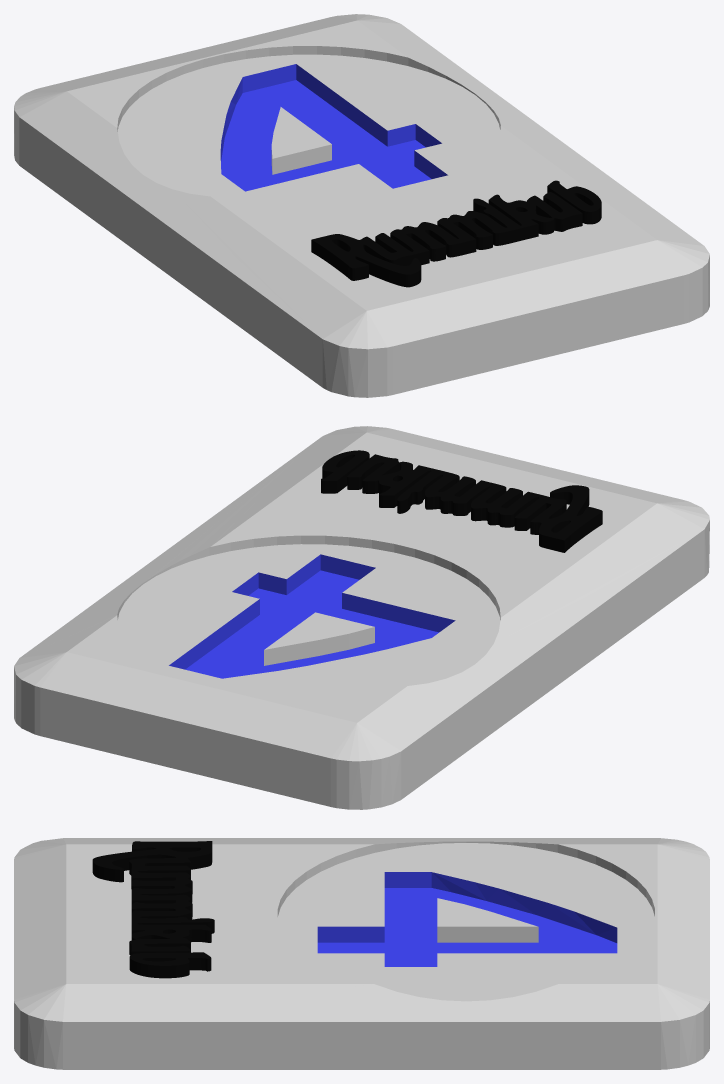
3 views of the same model, one above another, from view 1: azimuth 30°, elevation 25°; view 2: azimuth 150°, elevation 25°; view 3: azimuth 270°, elevation 25° (orthographic).
Visible parts, largest first — view 1: Rummikub 4 Fixed, Rummikub 1 Fixed.001; view 2: Rummikub 4 Fixed, Rummikub 1 Fixed.001; view 3: Rummikub 4 Fixed, Rummikub 1 Fixed.001.
Boxes of the visible parts, x1,y1,x2,y2 form: Rummikub 4 Fixed: [14, 14, 709, 397]; Rummikub 1 Fixed.001: [311, 180, 601, 287]; Rummikub 4 Fixed: [14, 426, 709, 809]; Rummikub 1 Fixed.001: [321, 450, 602, 552]; Rummikub 4 Fixed: [14, 838, 709, 1069]; Rummikub 1 Fixed.001: [92, 841, 214, 978].
Bounding box in the file's own units: 2499 × 482 × 4000.
